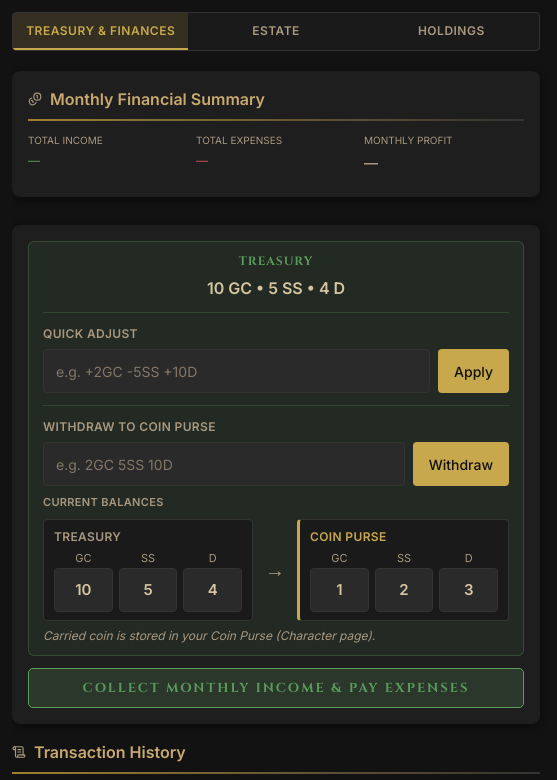
Test: EstatePage — Withdraw_Control (Treasury panel) › previews the resulting treasury and wealth balances per denomination while typing
This screenshot has width=557, height=780.
Step 1. Type "2GC 3SS 1D" into the field named "Withdraw amount" → (224, 464), box [43, 442, 405, 486]
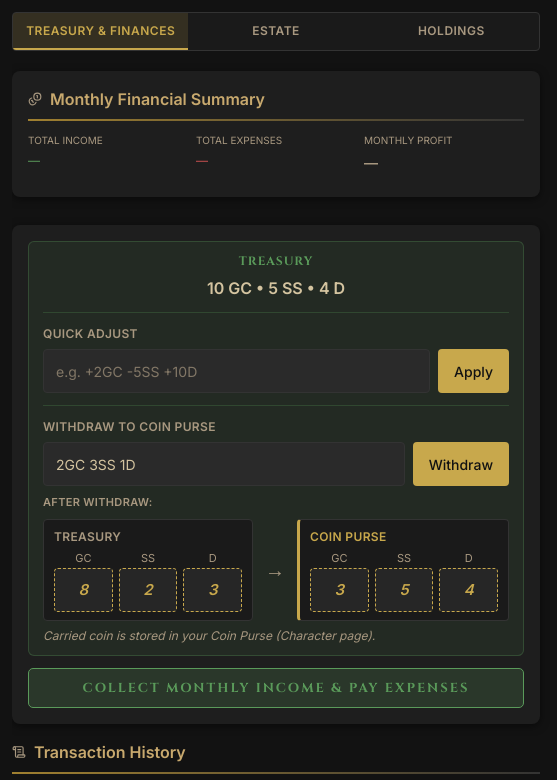
Check: the button with test id "transfer-withdraw-source-gc" reads "8", box [54, 568, 113, 612]
Check: the button with test id "transfer-withdraw-source-ss" reads "2", box [119, 568, 177, 612]
Check: the button with test id "transfer-withdraw-source-d" reads "3", box [183, 568, 242, 612]
